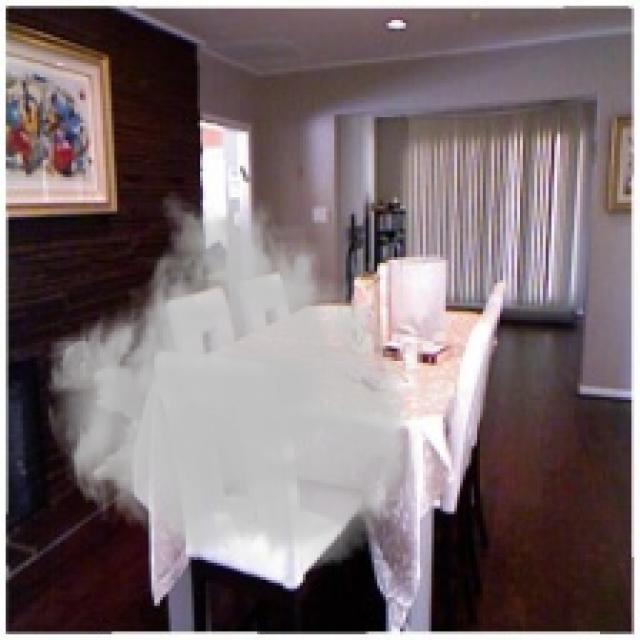Smoke: (43, 188, 423, 574)
